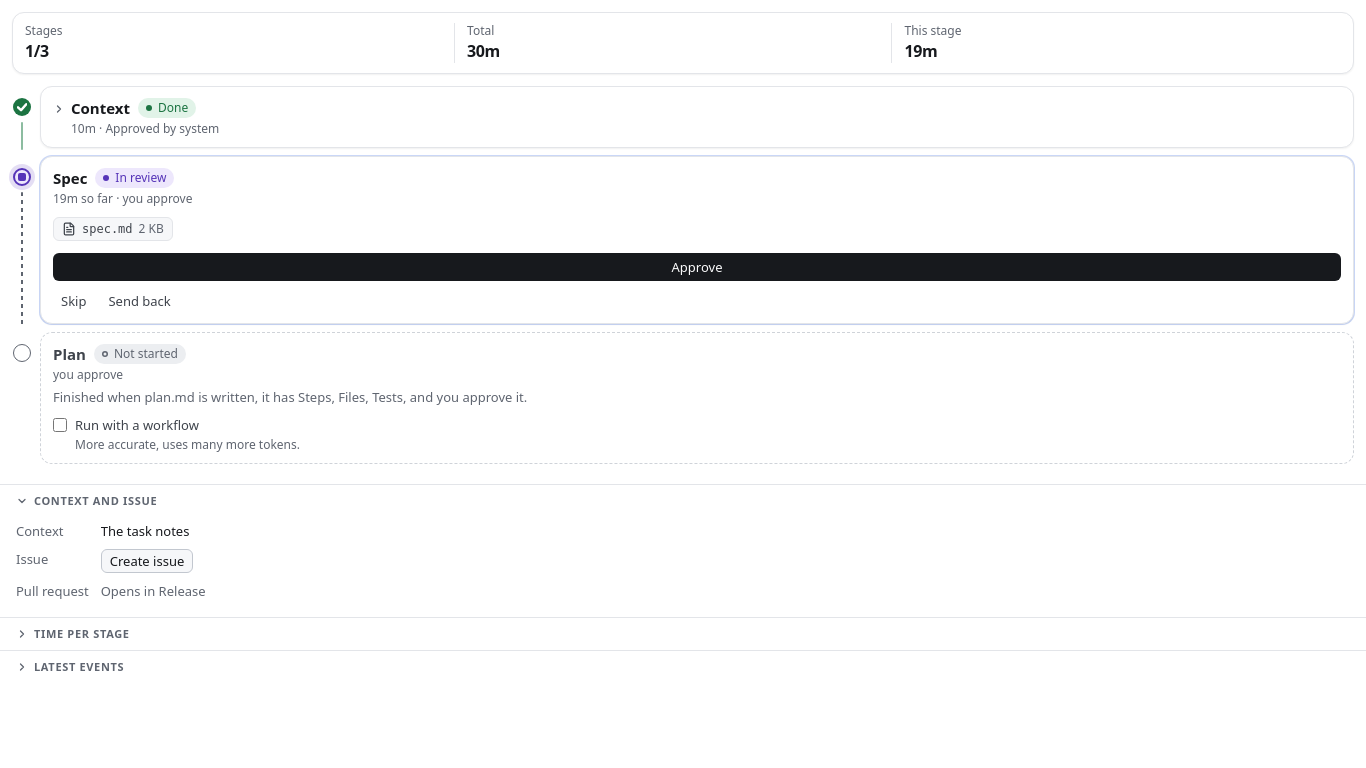
Scenario: the actions of the current stage › opens the send back dialog, and Cancel sends nothing
Click the button "Send back": (140, 301) left=100, top=289, right=179, bottom=313
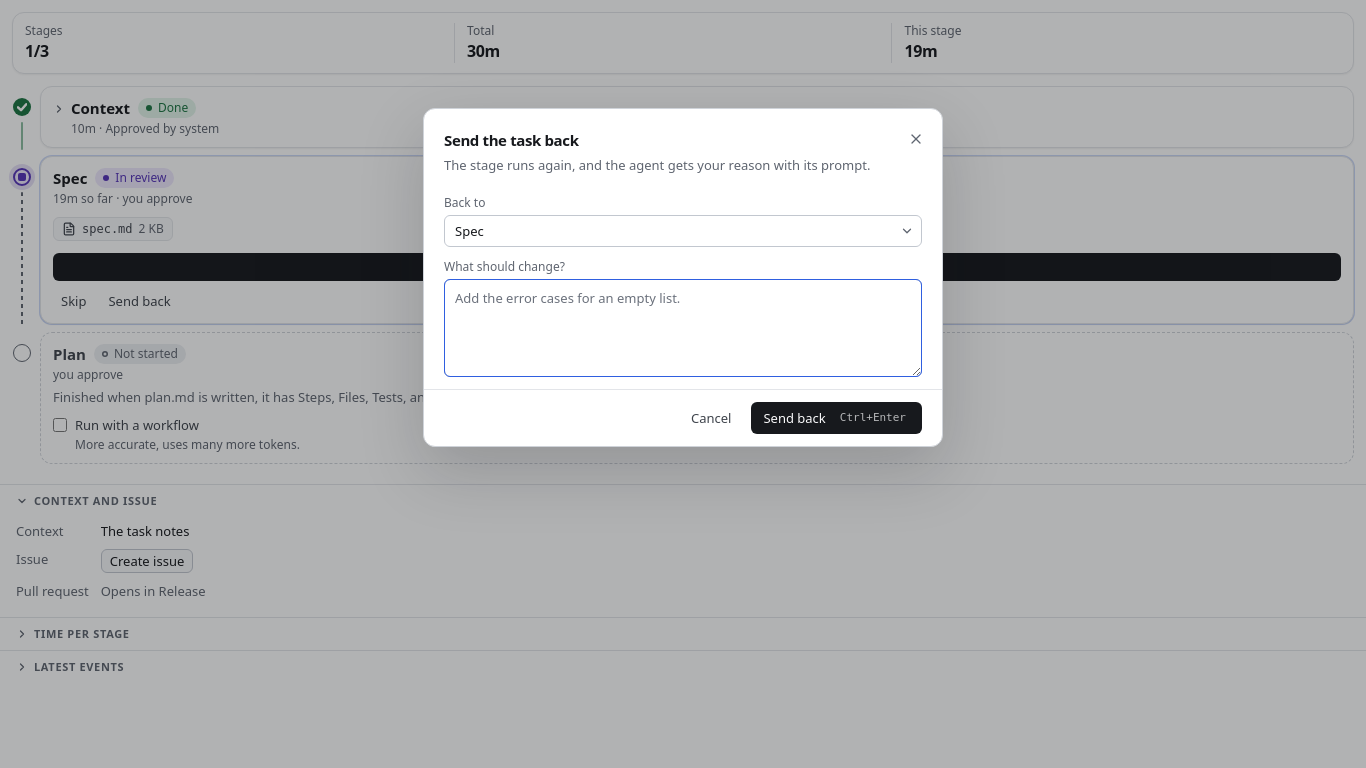
Click the button "Cancel": (711, 418) left=679, top=402, right=743, bottom=434
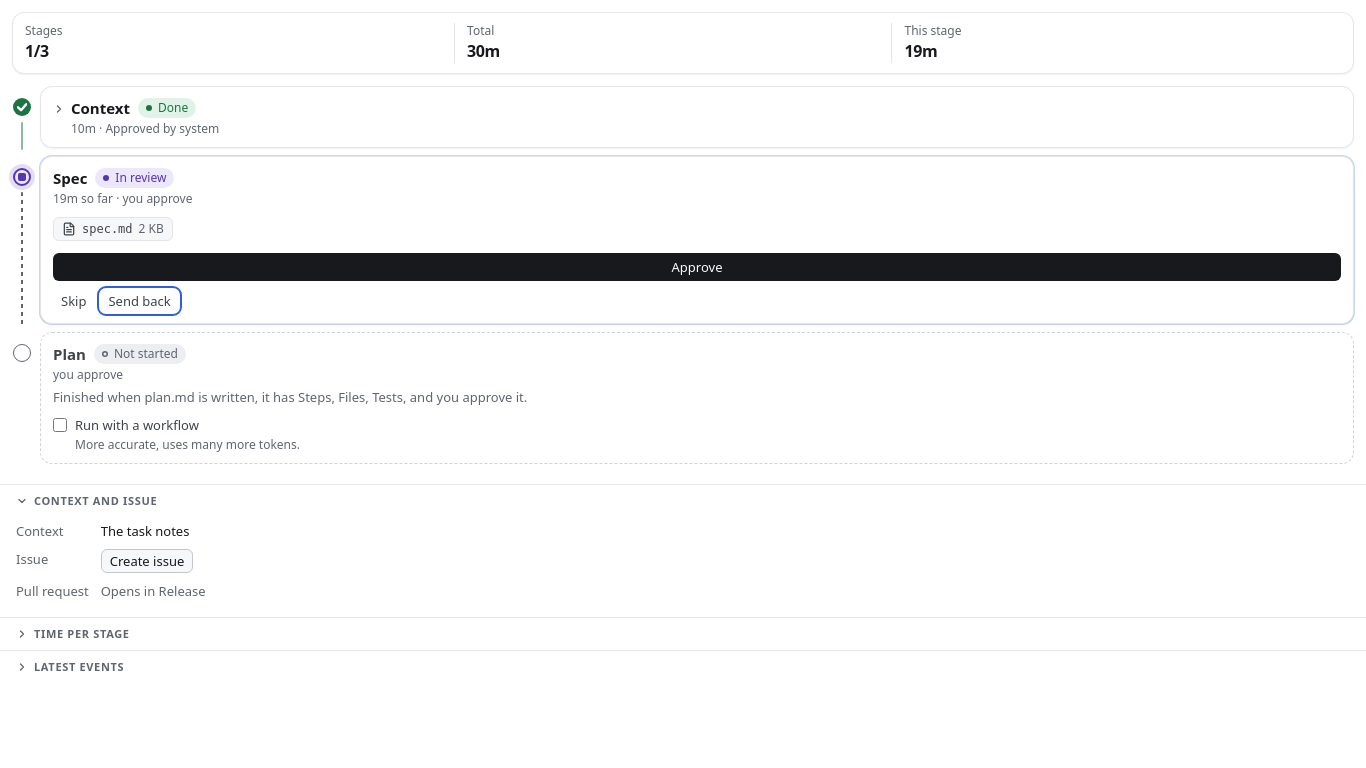
Expected: the heading "Send the task back" is gone
